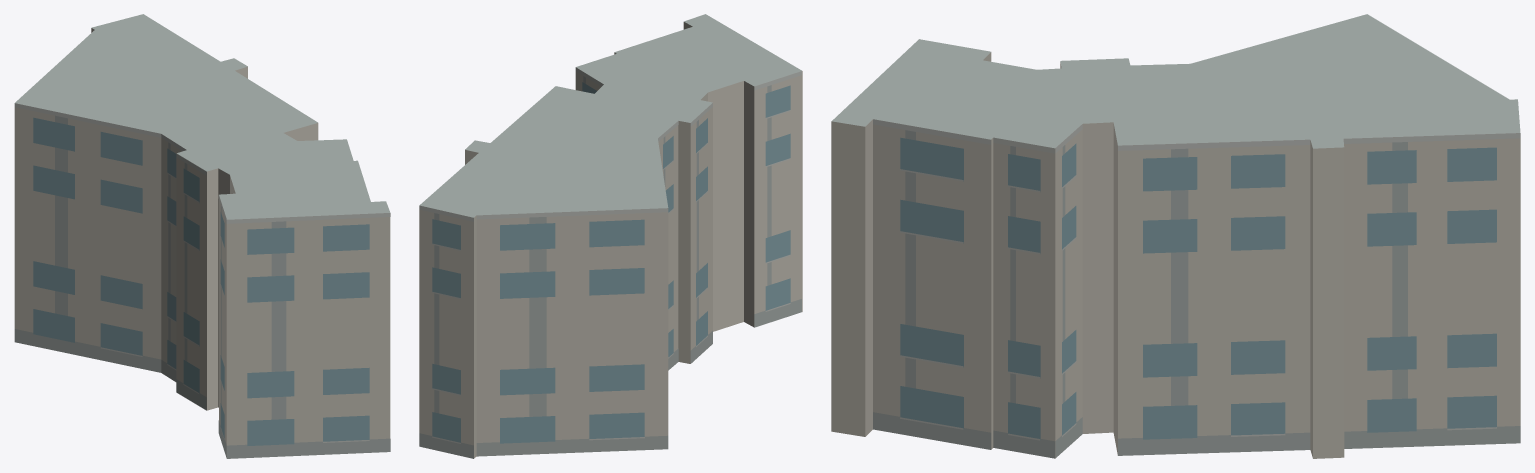
The model's file is survey-upis-32781230.glb.
The picture shows the model from 3 angles, left to right: view 1: azimuth 30°, elevation 25°; view 2: azimuth 150°, elevation 25°; view 3: azimuth 270°, elevation 25°; orthographic projection. The views are drawn at different scales.
Visible parts, largest first — view 1: survey-upis-32781230.tmp; view 2: survey-upis-32781230.tmp; view 3: survey-upis-32781230.tmp.
Boxes of the visible parts, bbox=[...] form: survey-upis-32781230.tmp: bbox=[14, 14, 390, 458]; survey-upis-32781230.tmp: bbox=[419, 14, 802, 458]; survey-upis-32781230.tmp: bbox=[831, 14, 1520, 458].
Bounding box in the file's own units: 13.22 × 14.2 × 28.59.
